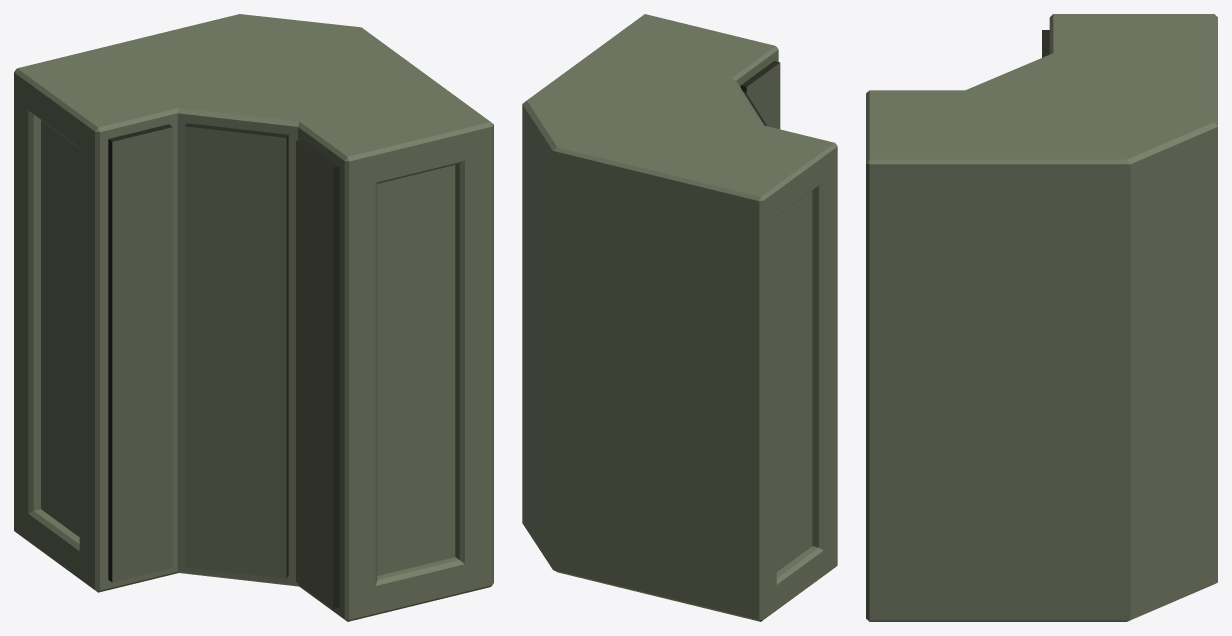
Rendered from CornerHangingCabinet.obj.
3 views of the same model, side by side, from view 1: azimuth 30°, elevation 25°; view 2: azimuth 150°, elevation 25°; view 3: azimuth 270°, elevation 25° (orthographic). The views are drawn at different scales.
Visible parts, largest first — view 1: Corner_Hanging_Cabinet_Corner_Hanging_Counter; view 2: Corner_Hanging_Cabinet_Corner_Hanging_Counter; view 3: Corner_Hanging_Cabinet_Corner_Hanging_Counter.
Part boxes in pixels (box(x1,y1,x2,y2)): Corner_Hanging_Cabinet_Corner_Hanging_Counter: box(14, 14, 493, 621); Corner_Hanging_Cabinet_Corner_Hanging_Counter: box(522, 14, 837, 621); Corner_Hanging_Cabinet_Corner_Hanging_Counter: box(866, 14, 1217, 621).
Size of the model in its own units: 1.03 by 1.5 by 1.03.
1 material, 1 textured.
